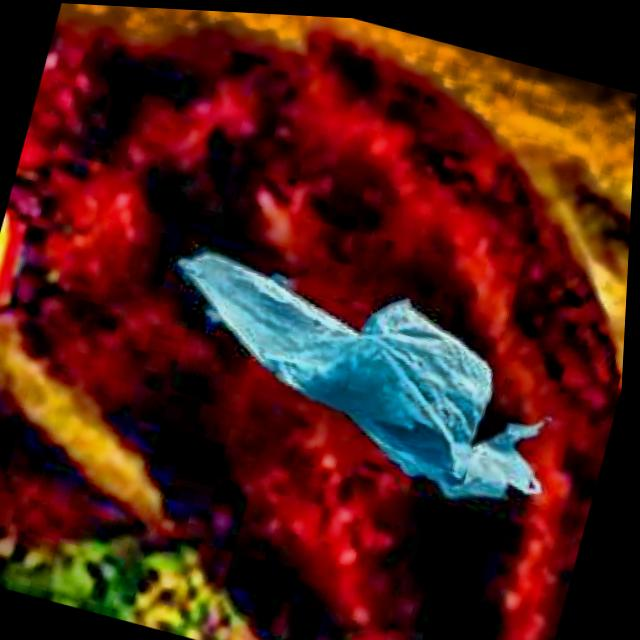Plastic: (122, 199, 591, 529)
